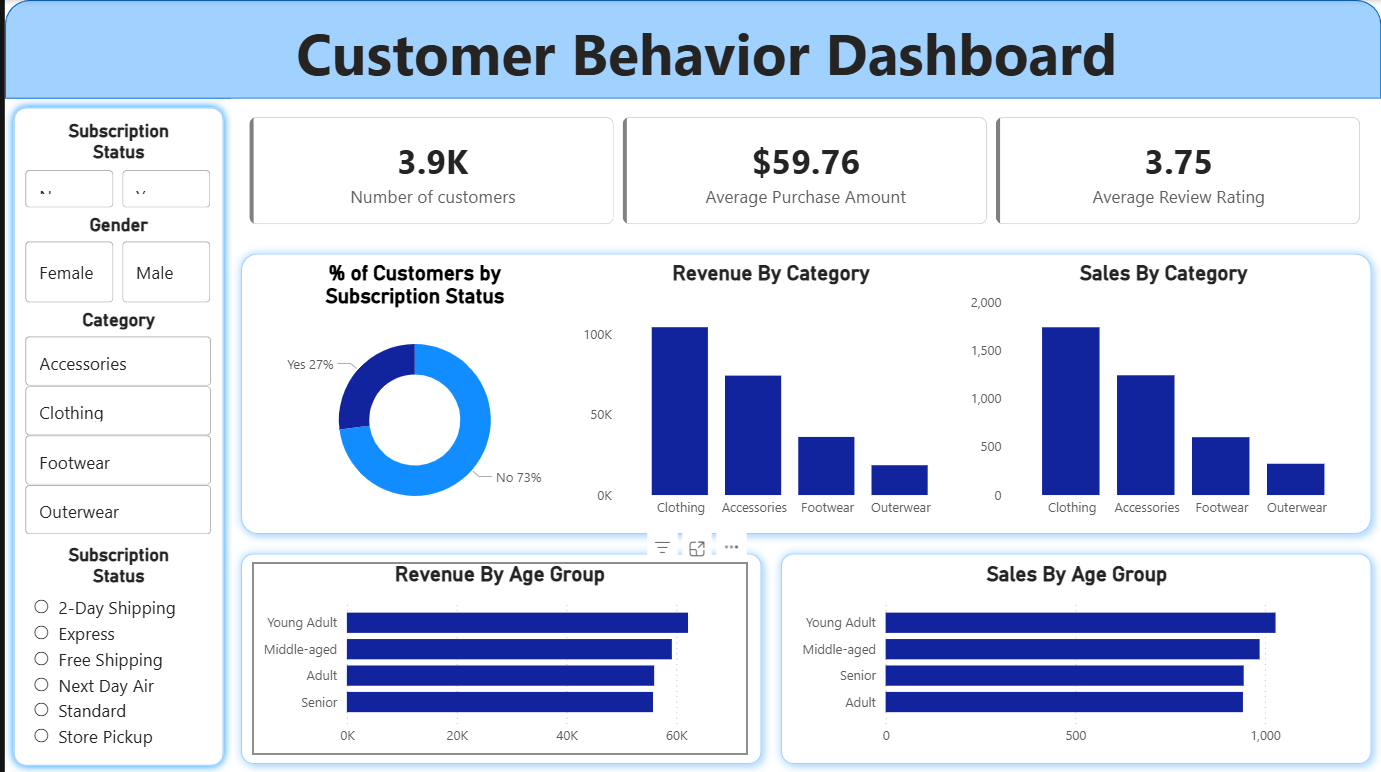

The dashboard page shown, as its layout file describes it:
{"tool":"powerbi","page":{"name":"Page 1","canvas":[1280,720],"ordinal":0},"visuals":[{"type":"shape","box":[712.8,505.8,567.4,214],"z":0},{"type":"shape","box":[210.5,505.8,502.3,214],"z":1000},{"type":"shape","box":[0,0,1280.3,91.9],"z":2000},{"type":"cardVisual","fields":{"Data":["public customer.Number of customers","public customer.Average Purchase Amount","public customer.Average Review Rating"]},"box":[210.5,91.9,1069.8,134.9],"z":3000},{"type":"textbox","box":[0,6.9,1280.3,85.1],"z":4000},{"type":"shape","box":[210.5,226.7,1069.8,279.1],"z":5000},{"type":"donutChart","title":"% of Customers by Subscription Status","fields":{"Category":["public customer.subscription_status"],"Y":["CountNonNull(public customer.customer_id)"]},"box":[230.2,243,302.3,247.7],"z":6000},{"type":"clusteredColumnChart","title":"Revenue By Category","fields":{"Category":["public customer.category"],"Y":["Sum(public customer.purchase_amount)"]},"box":[532.6,243,360.5,247.7],"z":7000},{"type":"clusteredColumnChart","title":"Sales By Category","fields":{"Category":["public customer.category"],"Y":["CountNonNull(public customer.customer_id)"]},"box":[893,243,369.8,247.7],"z":8000},{"type":"shape","box":[0,91.4,211.4,628.6],"z":9000},{"type":"advancedSlicerVisual","title":"Subscription Status","fields":{"Values":["public customer.subscription_status"]},"box":[14,111.6,183.7,87.2],"z":10000},{"type":"advancedSlicerVisual","title":"Gender","fields":{"Values":["public customer.gender"]},"box":[14,198.8,183.7,88.4],"z":11000},{"type":"advancedSlicerVisual","title":"Category","fields":{"Values":["public customer.category"]},"box":[14,287.2,183.7,218.6],"z":12000},{"type":"listSlicer","title":"Subscription Status","fields":{"Values":["public customer.shipping_type"]},"box":[19.8,505.8,172.1,196.5],"z":13000},{"type":"clusteredBarChart","title":"Revenue By Age Group","fields":{"Y":["Sum(public customer.purchase_amount)"],"Category":["public customer.age_group"]},"box":[230.2,523.3,460.5,179.1],"z":14000},{"type":"clusteredBarChart","title":"Sales By Age Group","fields":{"Y":["CountNonNull(public customer.customer_id)"],"Category":["public customer.age_group"]},"box":[731.4,523.3,531.4,179.1],"z":14001}]}

Visuals, with their boxes in screenshot pixels (x1, y1, x2, y2), scaled from the page's 1280x720 canvas onto the 1381x772 screenshot:
shape: 769/542/1380/771
shape: 227/542/769/771
shape: 0/0/1380/99
cardVisual - public customer.Number of customers x public customer.Average Purchase Amount: 227/99/1380/243
textbox: 0/7/1380/99
shape: 227/243/1380/542
"% of Customers by Subscription Status" donutChart: 248/261/575/526
"Revenue By Category" clusteredColumnChart: 575/261/964/526
"Sales By Category" clusteredColumnChart: 963/261/1362/526
shape: 0/98/228/771
"Subscription Status" advancedSlicerVisual: 15/120/213/213
"Gender" advancedSlicerVisual: 15/213/213/308
"Category" advancedSlicerVisual: 15/308/213/542
"Subscription Status" listSlicer: 21/542/207/753
"Revenue By Age Group" clusteredBarChart: 248/561/745/753
"Sales By Age Group" clusteredBarChart: 789/561/1362/753
